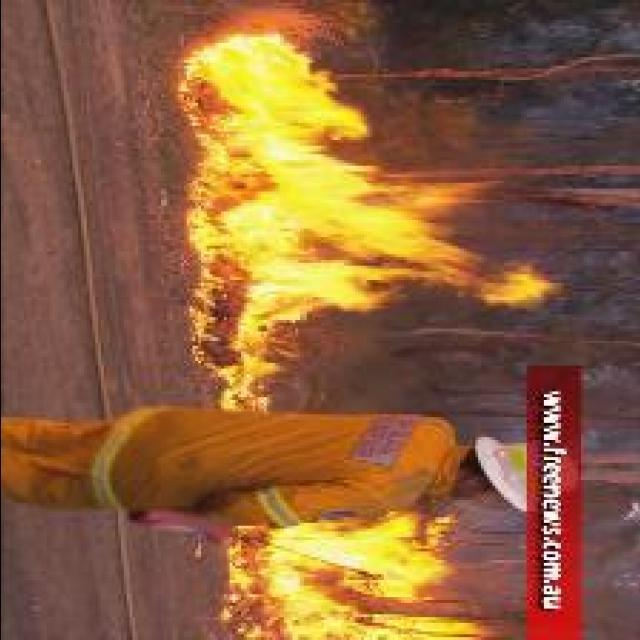Fire: (177, 34, 563, 412), (228, 512, 502, 640)
